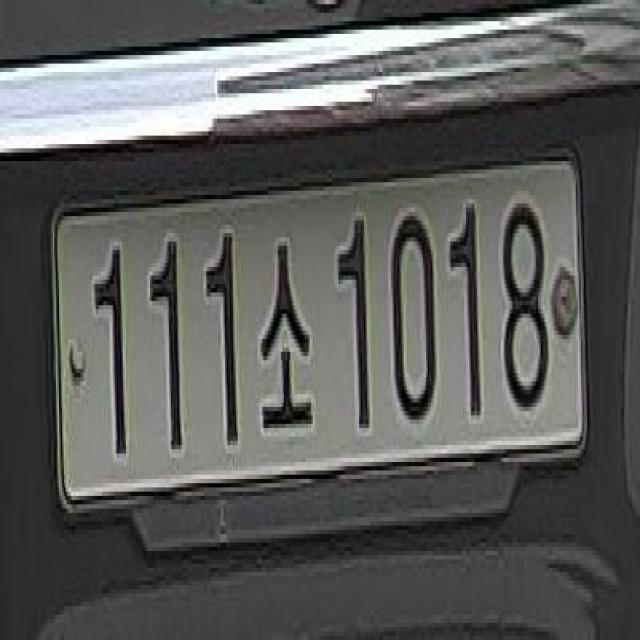illegal_plate: (44, 145, 597, 536)
